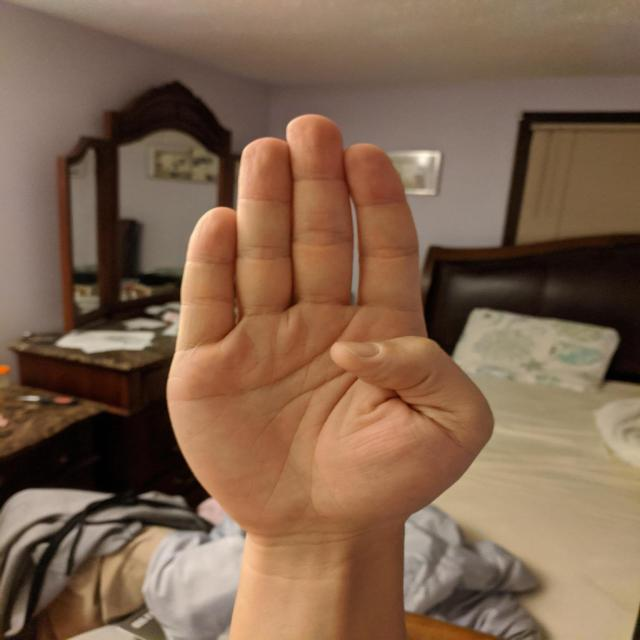B: (154, 106, 504, 544)
